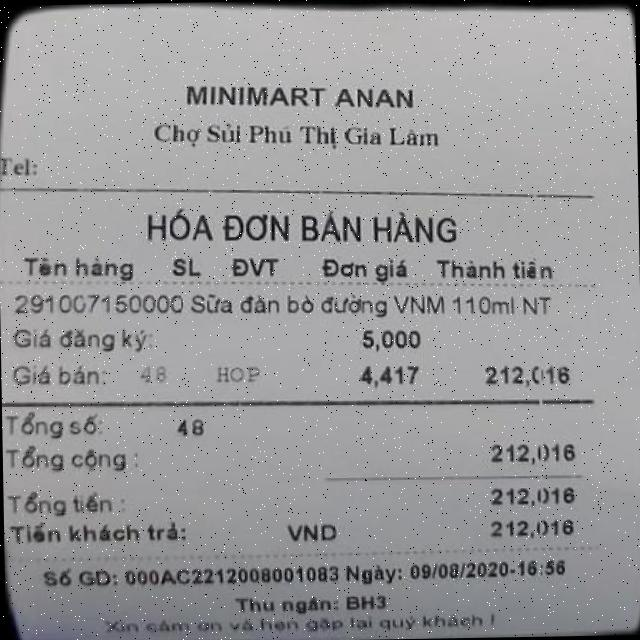Date: (408, 557, 509, 583)
Store_Name: (182, 74, 420, 117)
amount_number: (488, 436, 582, 467)
label_total: (2, 404, 108, 443)
